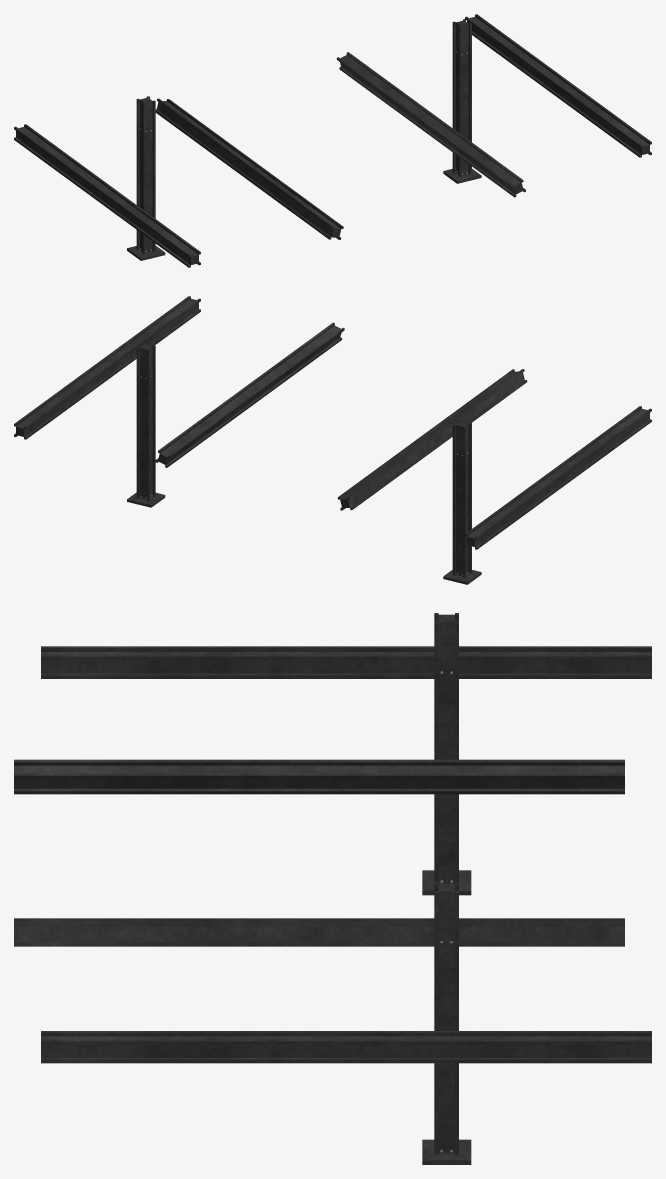
The model's file is Pillars.glb.
3 views of the same model, one above another, from view 1: azimuth 30°, elevation 25°; view 2: azimuth 150°, elevation 25°; view 3: azimuth 270°, elevation 25° (orthographic). The views are drawn at different scales.
Parts seen in each view (by area): view 1: Pillars; view 2: Pillars; view 3: Pillars.
Part boxes in pixels (left/top/right/bottom): Pillars: left=14, top=14, right=651, bottom=267; Pillars: left=14, top=296, right=651, bottom=584; Pillars: left=14, top=613, right=651, bottom=1164.
Size of what is drawn, in the model's own units: 19.04 by 6 by 13.
2 materials, 2 textured.
